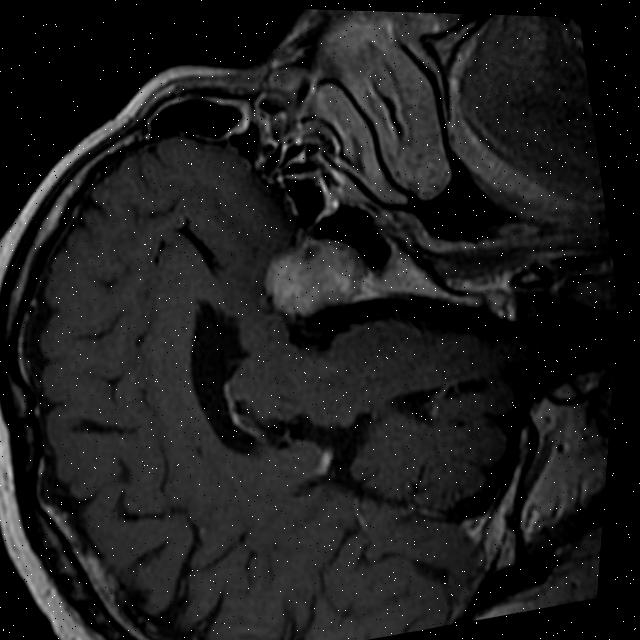Pituitary: (251, 221, 387, 326)
